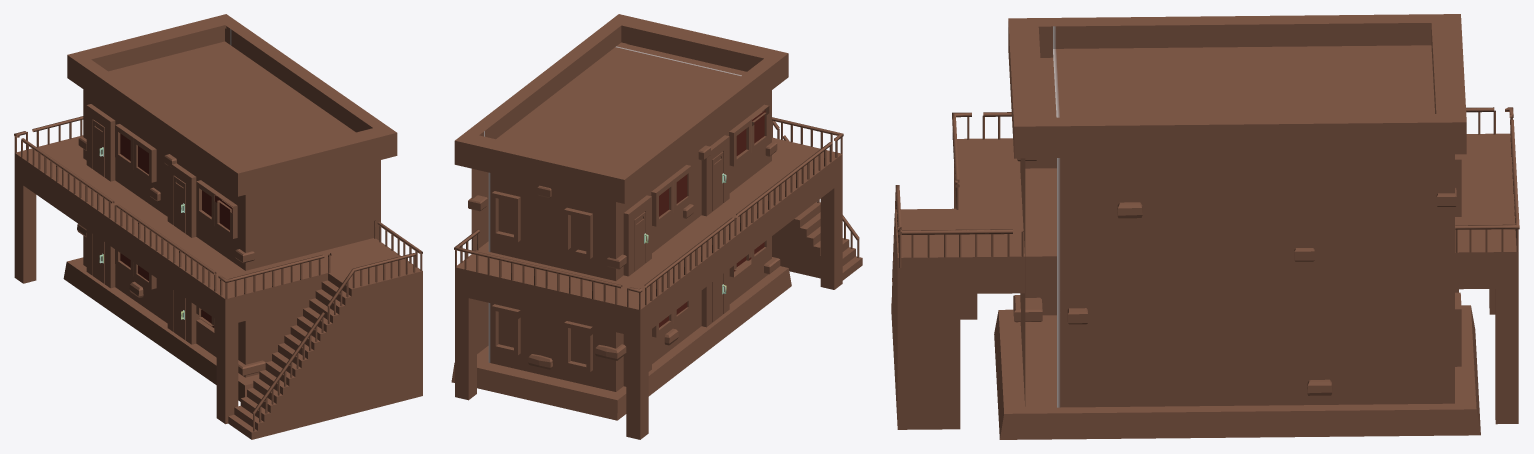
Rendered from Dummy03.fbx.
3 renders of one model, left to right at view 1: azimuth 30°, elevation 25°; view 2: azimuth 150°, elevation 25°; view 3: azimuth 270°, elevation 25°, orthographic. The views are drawn at different scales.
Visible parts, largest first — view 1: DummyBuilding; view 2: DummyBuilding; view 3: DummyBuilding.
Part boxes in pixels (box(x1,y1,x2,y2)): DummyBuilding: box(14, 14, 422, 439); DummyBuilding: box(451, 14, 862, 439); DummyBuilding: box(891, 14, 1519, 439).
Size of the model in its own units: 741 by 801 by 1450.
